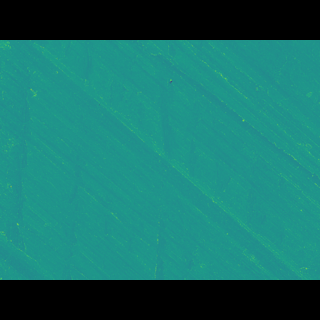Loch: (156, 119, 207, 173)
